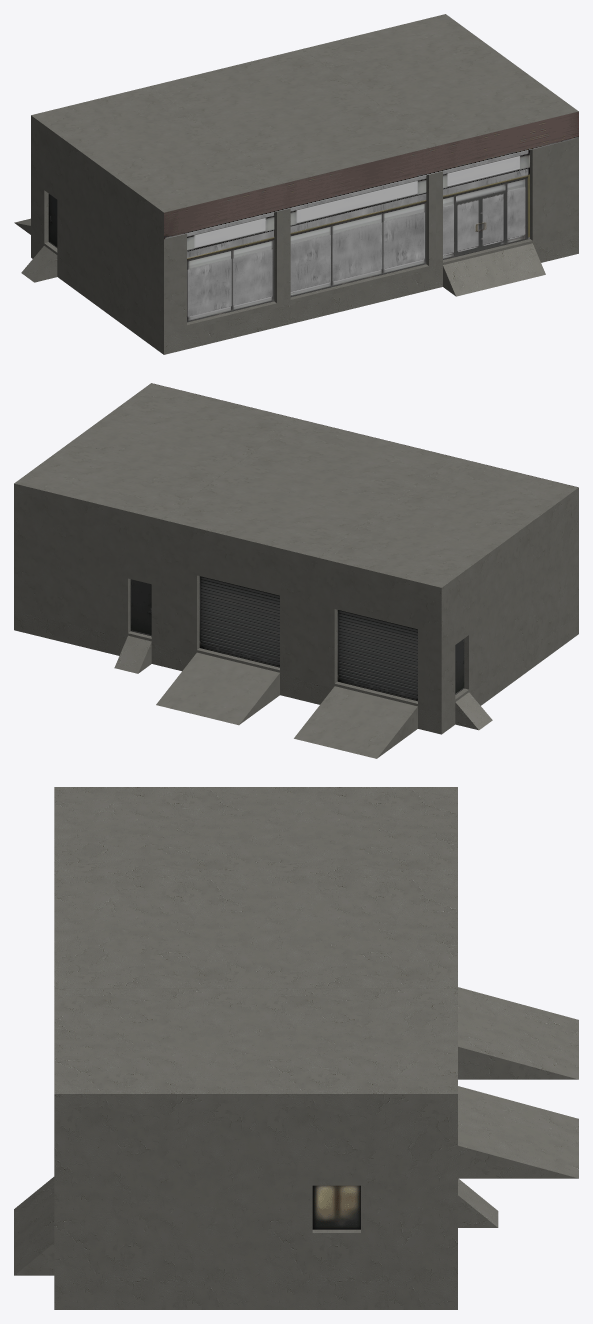
The model's file is mid_house_1.fbx.
The picture shows the model from 3 angles, top to bottom: view 1: azimuth 30°, elevation 25°; view 2: azimuth 150°, elevation 25°; view 3: azimuth 270°, elevation 25°; orthographic projection. The views are drawn at different scales.
Parts seen in each view (by area): view 1: mid_house_1; view 2: mid_house_1; view 3: mid_house_1.
Part boxes in pixels (left/top/right/bottom): mid_house_1: left=14, top=14, right=578, bottom=354; mid_house_1: left=14, top=383, right=578, bottom=758; mid_house_1: left=14, top=787, right=578, bottom=1309.
Bounding box in the file's own units: 1900 × 590 × 1400.
